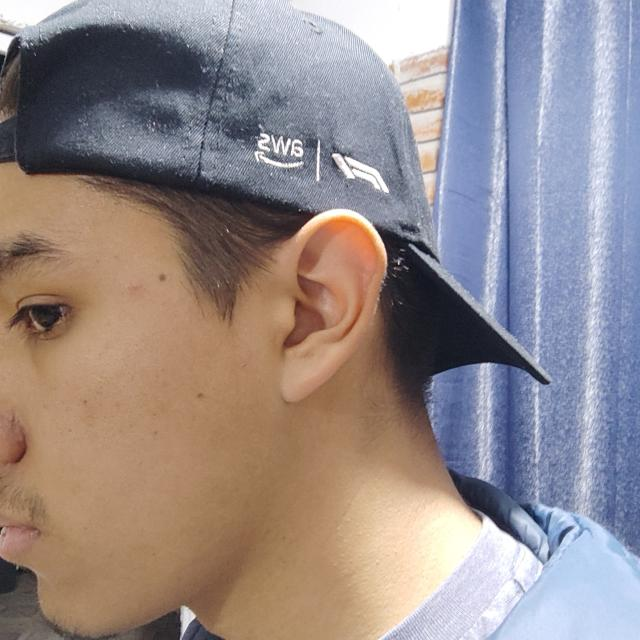ear: (268, 210, 386, 402)
